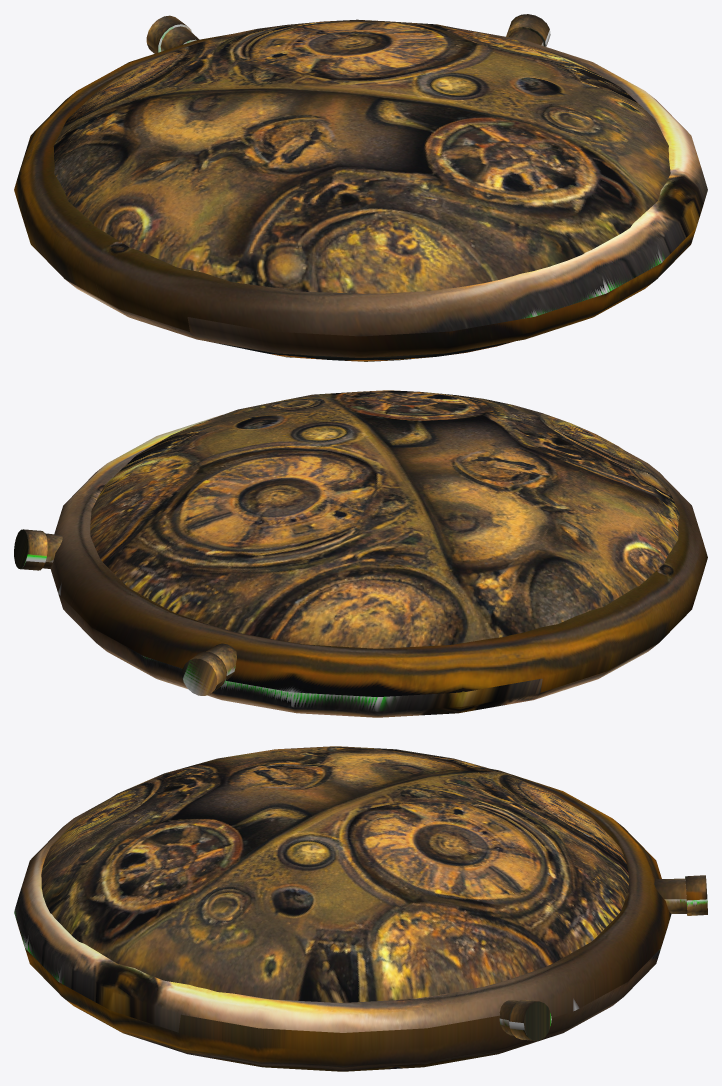
The model's file is PocketWatch.fbx.
3 views of the same model, one above another, from view 1: azimuth 30°, elevation 25°; view 2: azimuth 150°, elevation 25°; view 3: azimuth 270°, elevation 25° (orthographic). The views are drawn at different scales.
Parts seen in each view (by area): view 1: Watch; view 2: Watch; view 3: Watch.
Boxes of the visible parts, bbox=[...] form: Watch: bbox=[14, 14, 707, 361]; Watch: bbox=[14, 390, 707, 717]; Watch: bbox=[14, 746, 707, 1071].
Size of the model in its own units: 90.38 by 29.21 by 95.31.
Materials: 1 (1 with a texture image).
